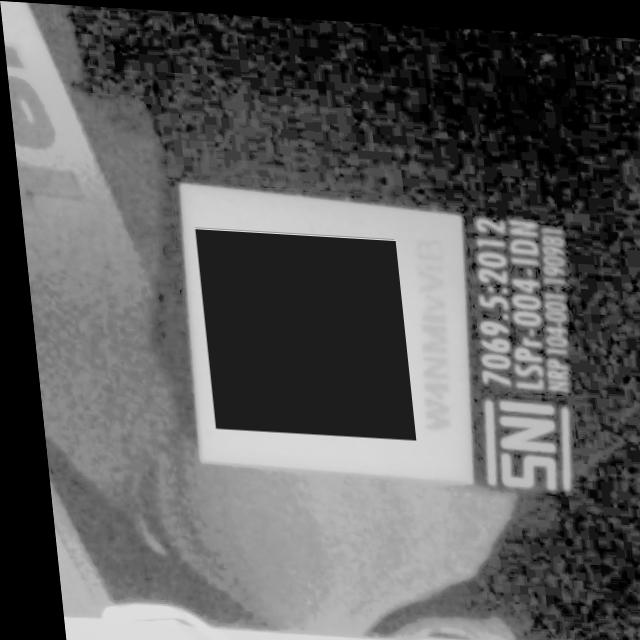qr_code: (190, 224, 407, 435)
